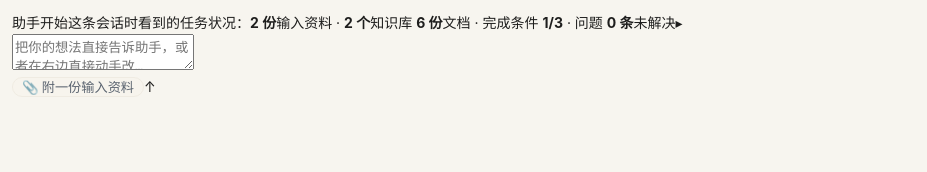
Test: 对话区里的任务状况消息 › 默认只有一行要点，行尾是 ▸，看不到全文；点这一行展开成「系统说明」加全文，行尾变 ▾；再点收起
Check: the text "系统说明" is not shown
Check: the text "这条会话开始时（10:02:03）的任务状况：任务「退款需求走查」（类型：需求工程），任务编号 TASK-P，状态是进行中。交付物现有 4 个条目。" is not shown
Step 1. Click the button with test id "system-note-line" → (347, 22), box top-left (12, 14), bottom-right (683, 31)
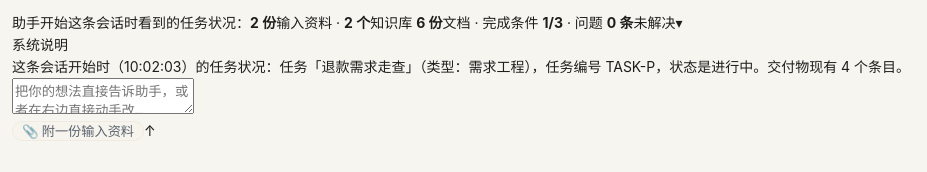
Check: the button with test id "system-note-line" is expanded
Check: the button with test id "system-note-line" shows "▾"
Step 2. Click the button with test id "system-note-line" → (347, 22), box top-left (12, 14), bottom-right (683, 31)
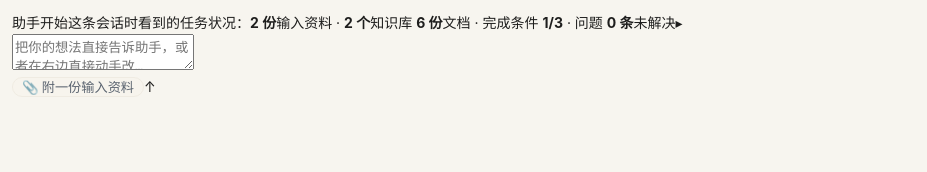
Check: the button with test id "system-note-line" is collapsed, box top-left (12, 14), bottom-right (683, 31)
Check: the button with test id "system-note-line" shows "▸", box top-left (12, 14), bottom-right (683, 31)
Check: the element with test id "system-note-full" is gone
